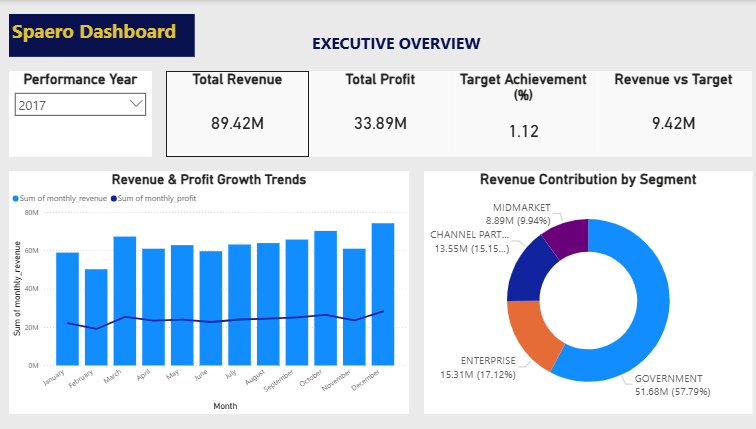

The dashboard page shown, as its layout file describes it:
{"tool":"powerbi","page":{"name":"Executive Overview","canvas":[1280,720],"ordinal":0},"visuals":[{"type":"slicer","title":"Performance Year","fields":{"Values":["presentation vw_exec_kpi_scorecard.performance_year"]},"box":[24,120,240,144],"z":0},{"type":"card","title":"Total Revenue","fields":{"Values":["Measures_table.Total Revenue"]},"box":[288,120,240,144],"z":1},{"type":"card","title":"Total Profit","fields":{"Values":["Measures_table.Total Profit"]},"box":[528,120,240,144],"z":2},{"type":"card","title":"Target Achievement (%)","fields":{"Values":["Measures_table.Target Achievement %"]},"box":[768,120,240,144],"z":3},{"type":"card","title":"Revenue vs Target","fields":{"Values":["Measures_table.Revenue vs Target"]},"box":[1008,120,264,144],"z":4},{"type":"lineClusteredColumnComboChart","title":"Revenue & Profit Growth Trends","fields":{"Category":["presentation vw_exec_monthly_trend.month_start.Variation.Date Hierarchy.Year","presentation vw_exec_monthly_trend.month_start.Variation.Date Hierarchy.Quarter","presentation vw_exec_monthly_trend.month_start.Variation.Date Hierarchy.Month","presentation vw_exec_monthly_trend.month_start.Variation.Date Hierarchy.Day"],"Y":["Sum(presentation vw_exec_monthly_trend.monthly_revenue)"],"Y2":["Sum(presentation vw_exec_monthly_trend.monthly_profit)"]},"box":[24,288,672,408],"z":5},{"type":"donutChart","title":"Revenue Contribution by Segment","fields":{"Category":["presentation vw_exec_segment_summary.segment"],"Y":["Sum(presentation vw_exec_segment_summary.total_revenue)"]},"box":[720,288,552,408],"z":6},{"type":"textbox","box":[24,24,312,72],"z":7},{"type":"textbox","box":[528,48,360,72],"z":8}]}

Visuals, with their boxes in screenshot pixels (x1, y1, x2, y2), scaled from the page's 1280x720 canvas onto the 756x429 screenshot:
"Performance Year" slicer: region(14, 72, 156, 157)
"Total Revenue" card: region(170, 72, 312, 157)
"Total Profit" card: region(312, 72, 454, 157)
"Target Achievement (%)" card: region(454, 72, 595, 157)
"Revenue vs Target" card: region(595, 72, 751, 157)
"Revenue & Profit Growth Trends" lineClusteredColumnComboChart: region(14, 172, 411, 415)
"Revenue Contribution by Segment" donutChart: region(425, 172, 751, 415)
textbox: region(14, 14, 198, 57)
textbox: region(312, 29, 524, 72)
